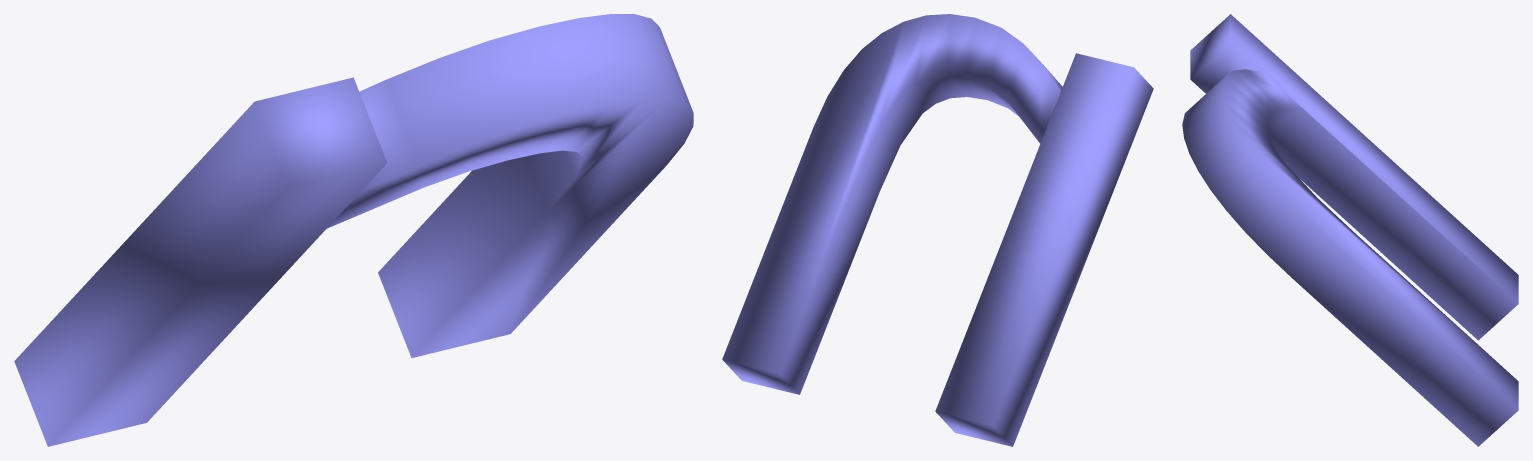
File: original-5.obj
The picture shows the model from 3 angles, left to right: view 1: azimuth 30°, elevation 25°; view 2: azimuth 150°, elevation 25°; view 3: azimuth 270°, elevation 25°; orthographic projection. The views are drawn at different scales.
Parts seen in each view (by area): view 1: mesh3/mesh3-geometry#mesh3-geometry; view 2: mesh3/mesh3-geometry#mesh3-geometry; view 3: mesh3/mesh3-geometry#mesh3-geometry.
Part boxes in pixels (box(x1,y1,x2,y2)): mesh3/mesh3-geometry#mesh3-geometry: box(14, 14, 693, 446); mesh3/mesh3-geometry#mesh3-geometry: box(722, 14, 1153, 446); mesh3/mesh3-geometry#mesh3-geometry: box(1182, 14, 1518, 446).
Bounding box in the file's own units: 0.0572 × 0.0601 × 0.0601.
